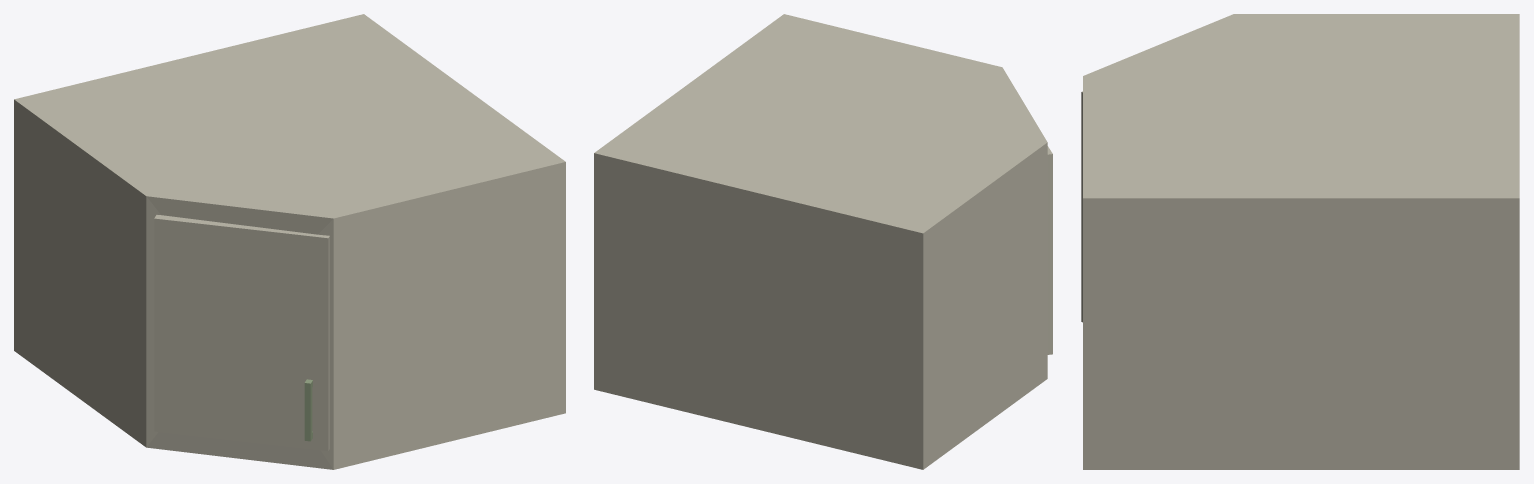
Rendered from KitchenCounter_CornerTop_01.fbx.
3 renders of one model, left to right at view 1: azimuth 30°, elevation 25°; view 2: azimuth 150°, elevation 25°; view 3: azimuth 270°, elevation 25°, orthographic. The views are drawn at different scales.
Visible parts, largest first — view 1: KitchenCounter_CornerTop_01, KitchenCounter_CornerTop_01_Door; view 2: KitchenCounter_CornerTop_01, KitchenCounter_CornerTop_01_Door; view 3: KitchenCounter_CornerTop_01, KitchenCounter_CornerTop_01_Door.
Boxes of the visible parts, x1,y1,x2,y2 form: KitchenCounter_CornerTop_01: (14, 14, 565, 469); KitchenCounter_CornerTop_01_Door: (154, 215, 329, 450); KitchenCounter_CornerTop_01: (594, 14, 1047, 469); KitchenCounter_CornerTop_01_Door: (1047, 146, 1052, 354); KitchenCounter_CornerTop_01: (1083, 14, 1519, 469); KitchenCounter_CornerTop_01_Door: (1081, 91, 1082, 322).
Bounding box in the file's own units: 1 × 0.6866 × 1.
